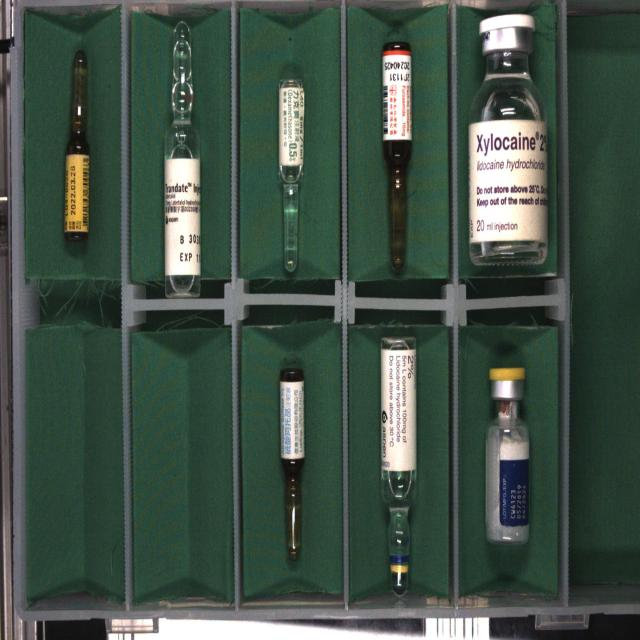Vials: (468, 14, 549, 267), (486, 366, 529, 543)
